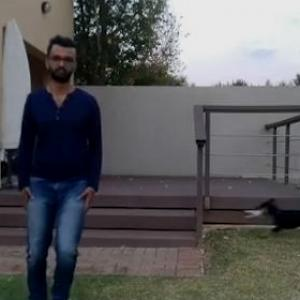follow: (14, 26, 118, 299)
